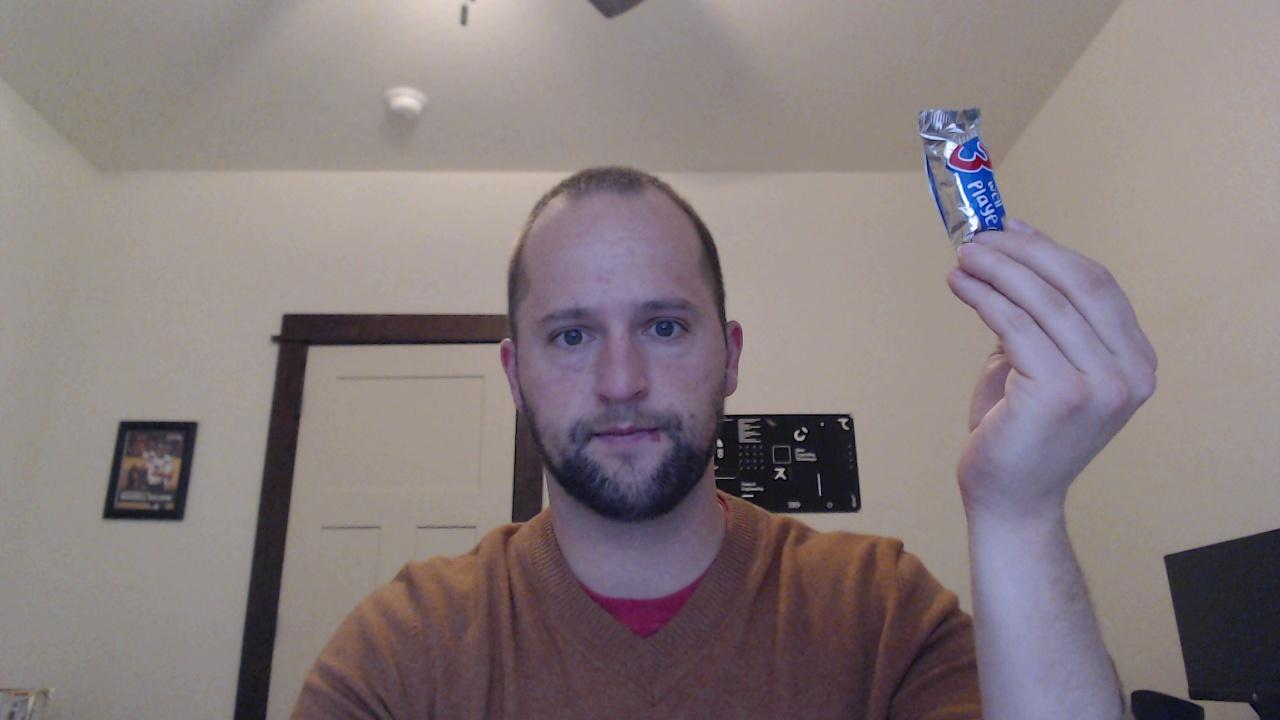musketeers: (918, 106, 1007, 252)
